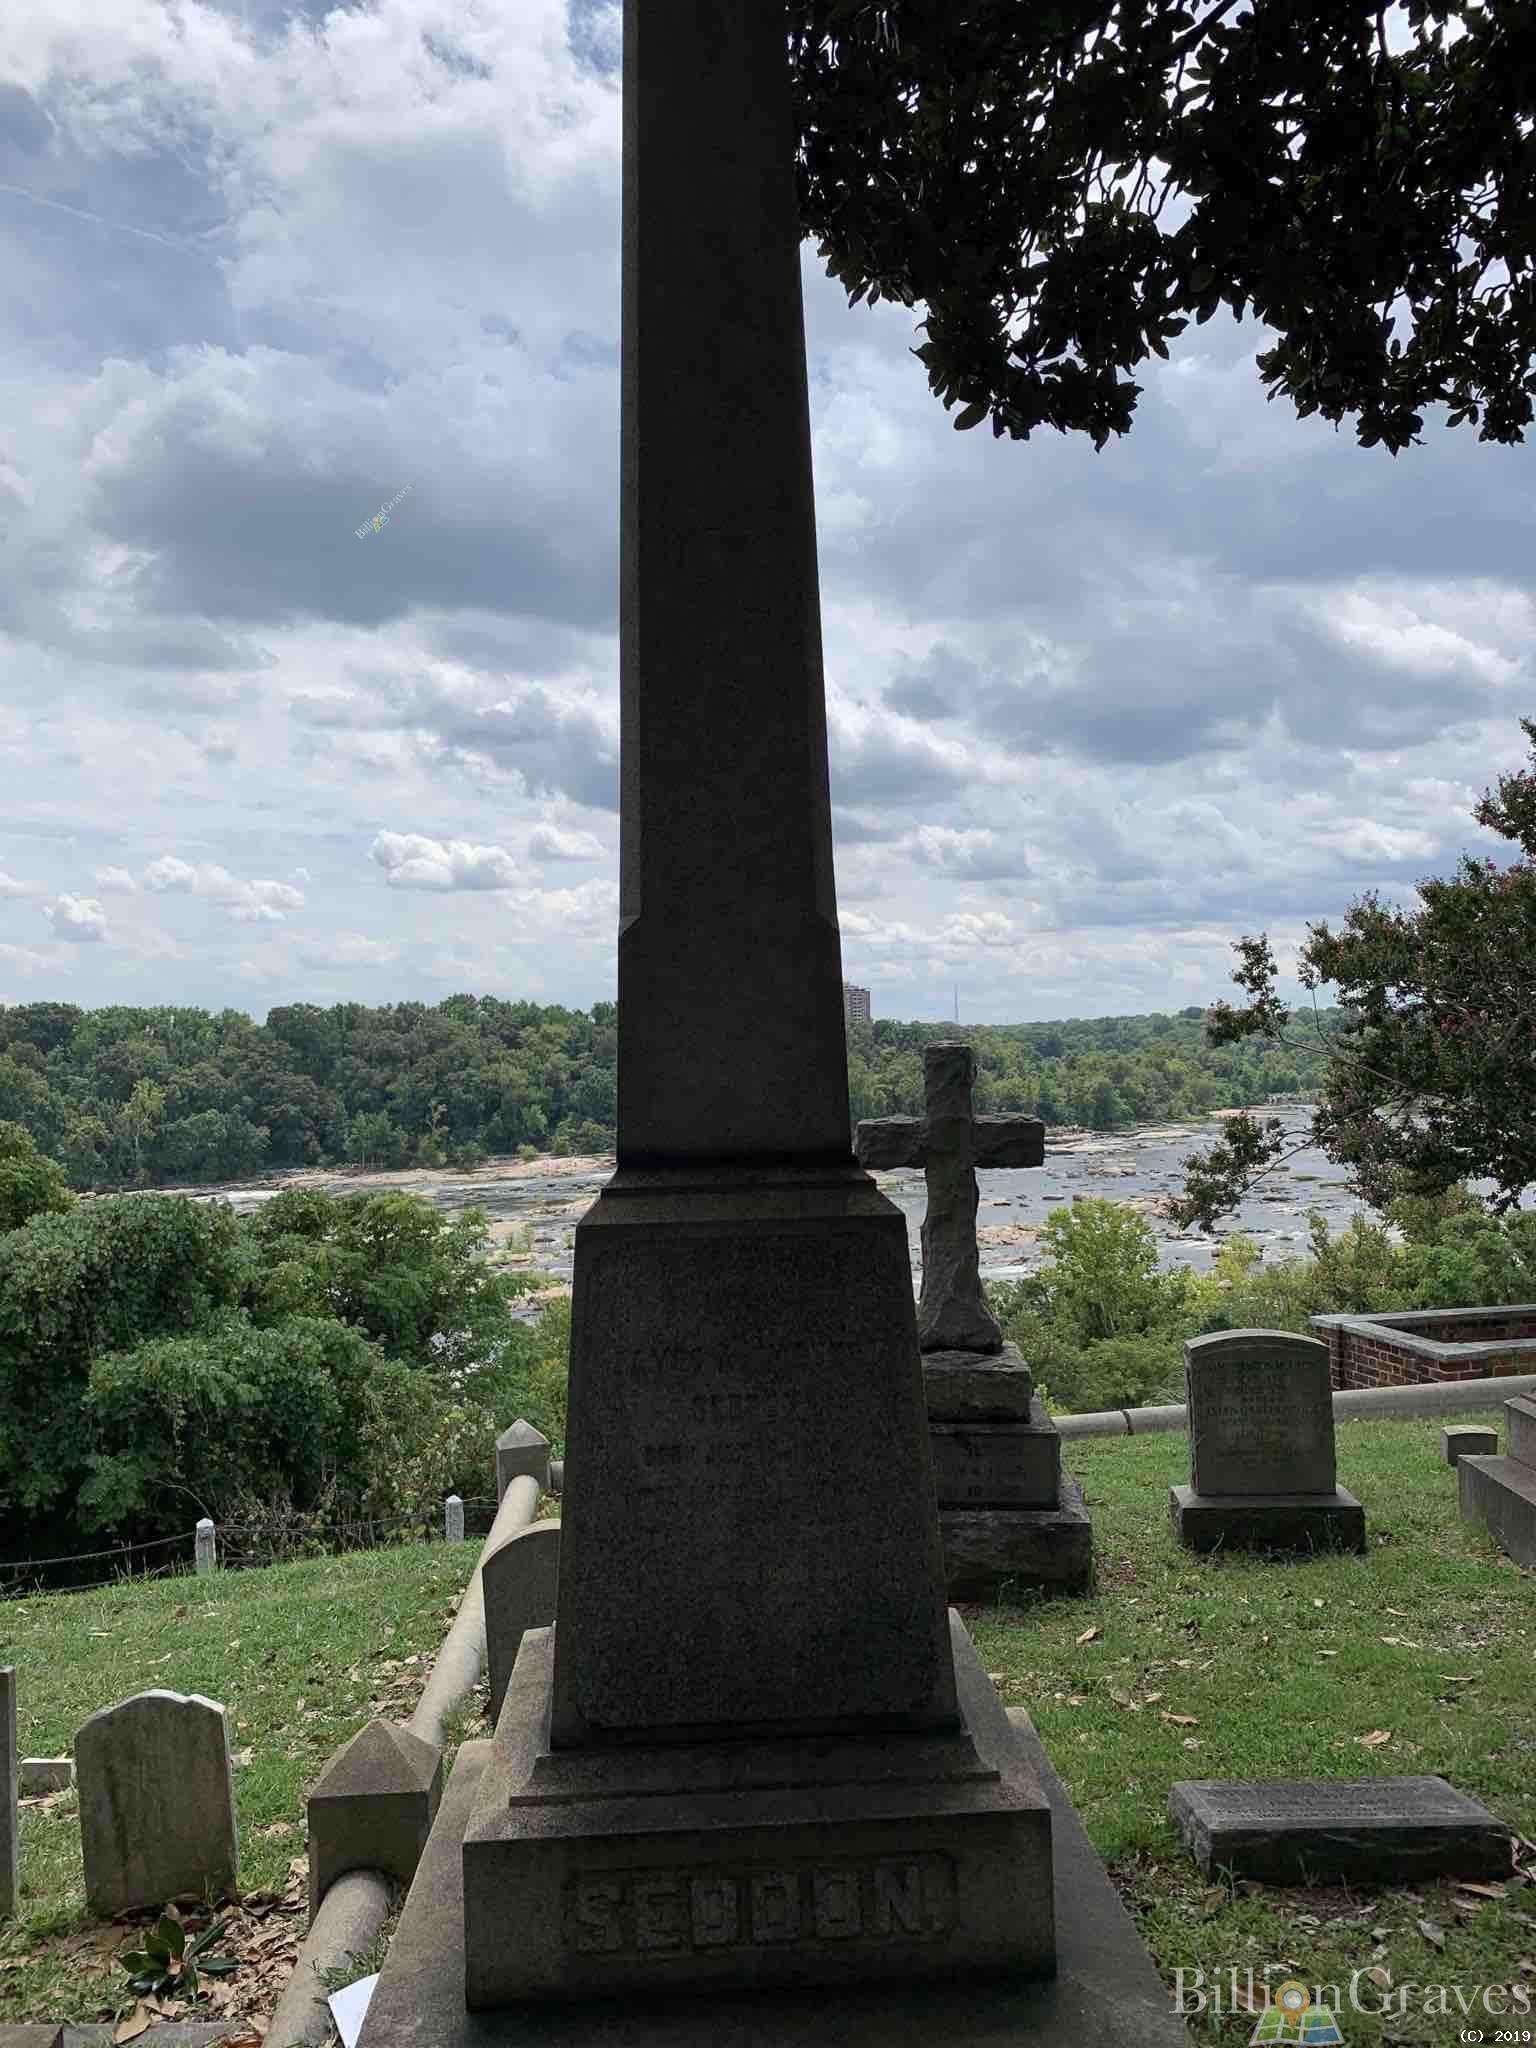obelisk: (458, 0, 1057, 2004)
